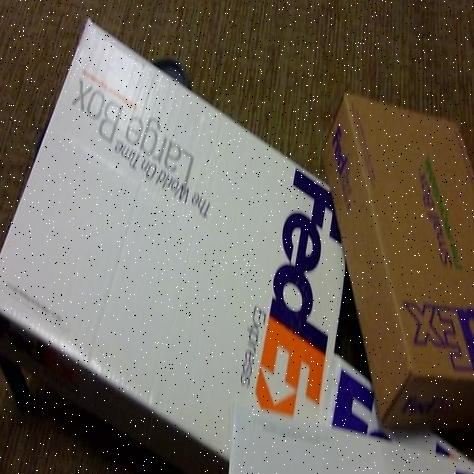Amazon: (23, 45, 340, 452), (341, 104, 474, 428), (228, 410, 474, 474)
